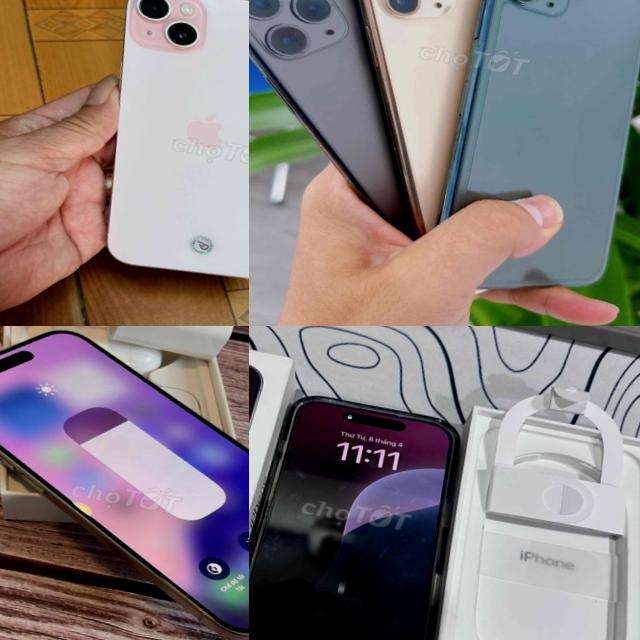gen_11: (426, 0, 640, 315)
gen_15: (0, 326, 249, 640), (70, 0, 249, 297)
gen_16: (249, 399, 456, 640)
